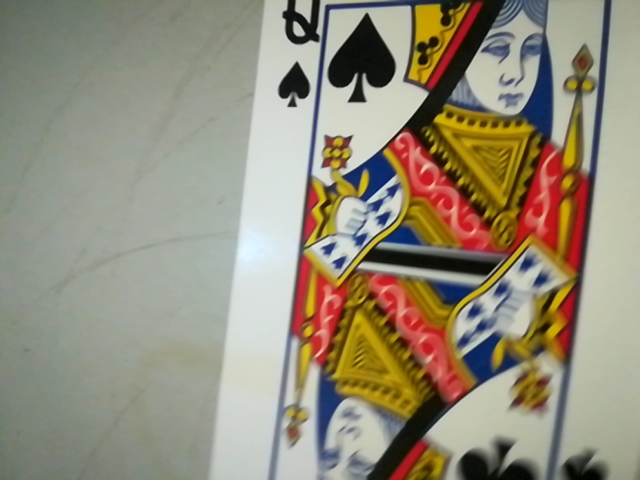ht q: (269, 0, 325, 111)
